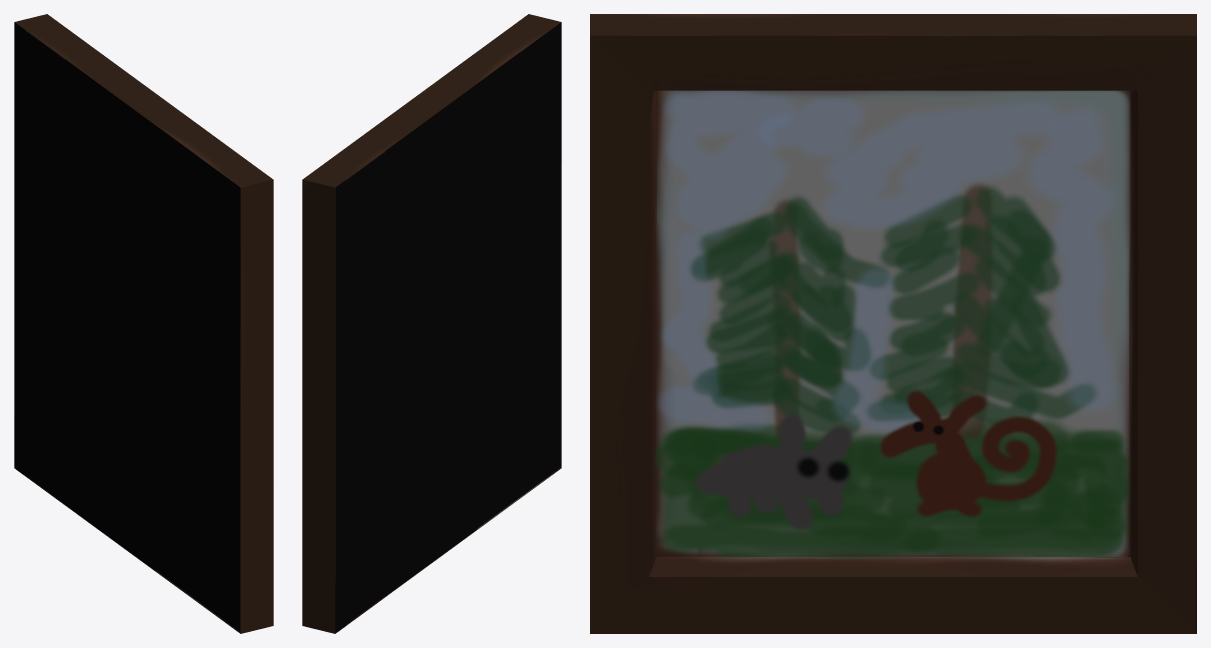
File: taulu.fbx
3 renders of one model, left to right at view 1: azimuth 30°, elevation 25°; view 2: azimuth 150°, elevation 25°; view 3: azimuth 270°, elevation 25°, orthographic. The views are drawn at different scales.
Parts seen in each view (by area): view 1: Cube; view 2: Cube; view 3: Cube.
Part boxes in pixels (left/top/right/bottom): Cube: left=14, top=14, right=273, bottom=633; Cube: left=302, top=14, right=561, bottom=633; Cube: left=590, top=14, right=1196, bottom=633.
Size of the model in its own units: 16.78 by 218 by 200.
